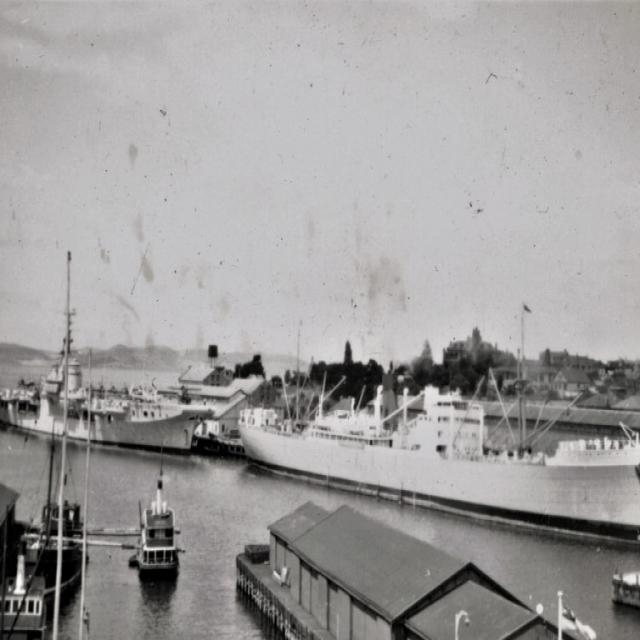Portanaves: (1, 316, 217, 466)
